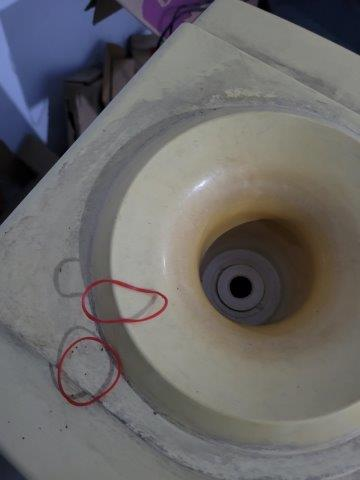karet: (58, 337, 123, 406), (80, 280, 169, 322)
